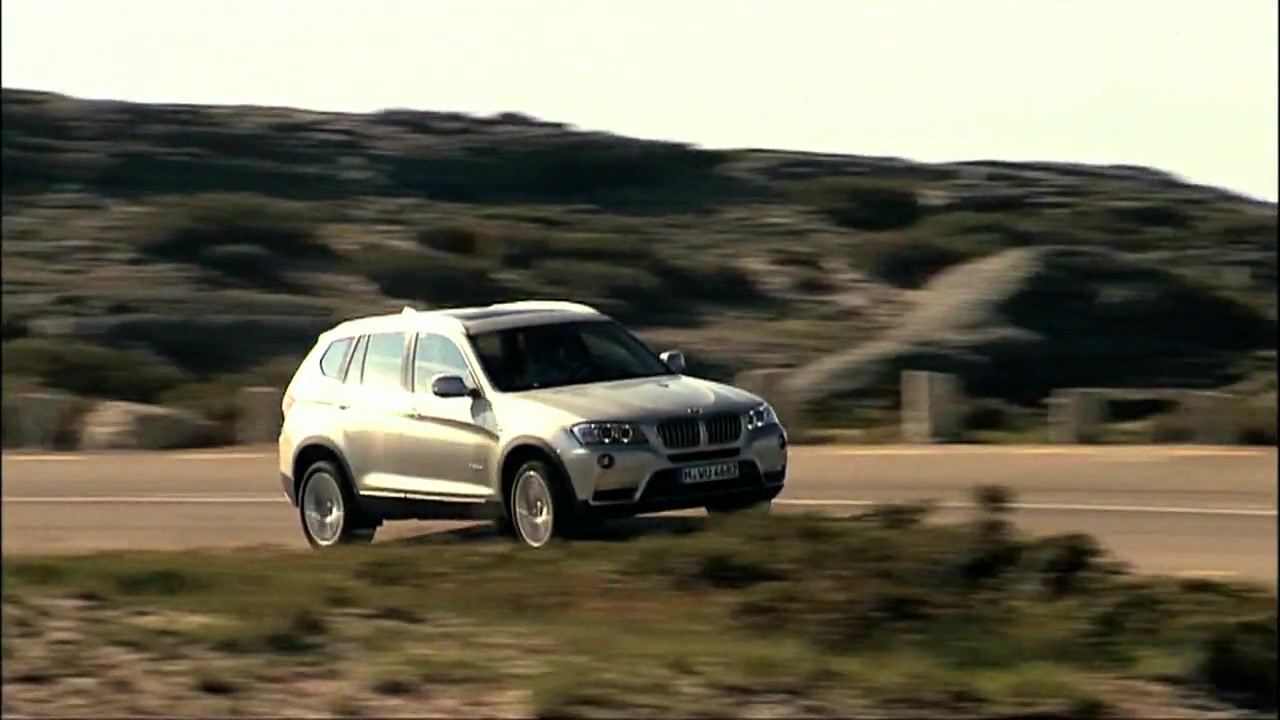car: (271, 298, 792, 552)
